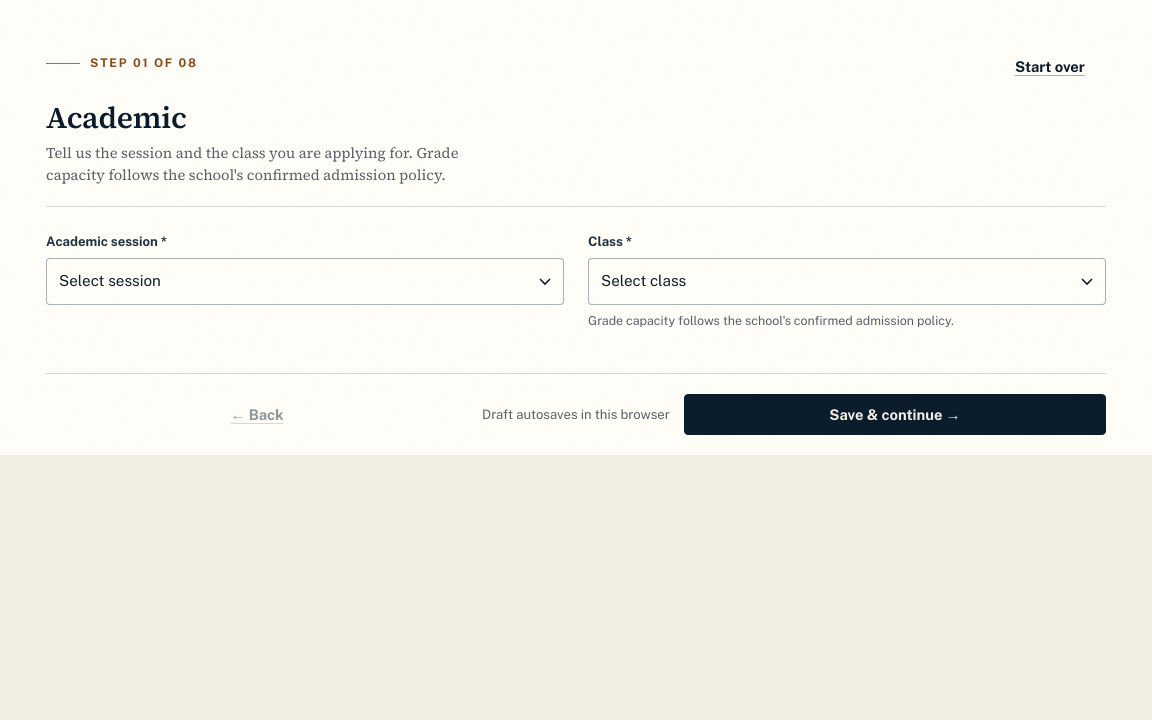
ApplicationForm › advances to step 2 after the required fields are filled
Select "Session 2026-27" in the dropdown labelled "Academic session *": (305, 282) [46,258,564,305]
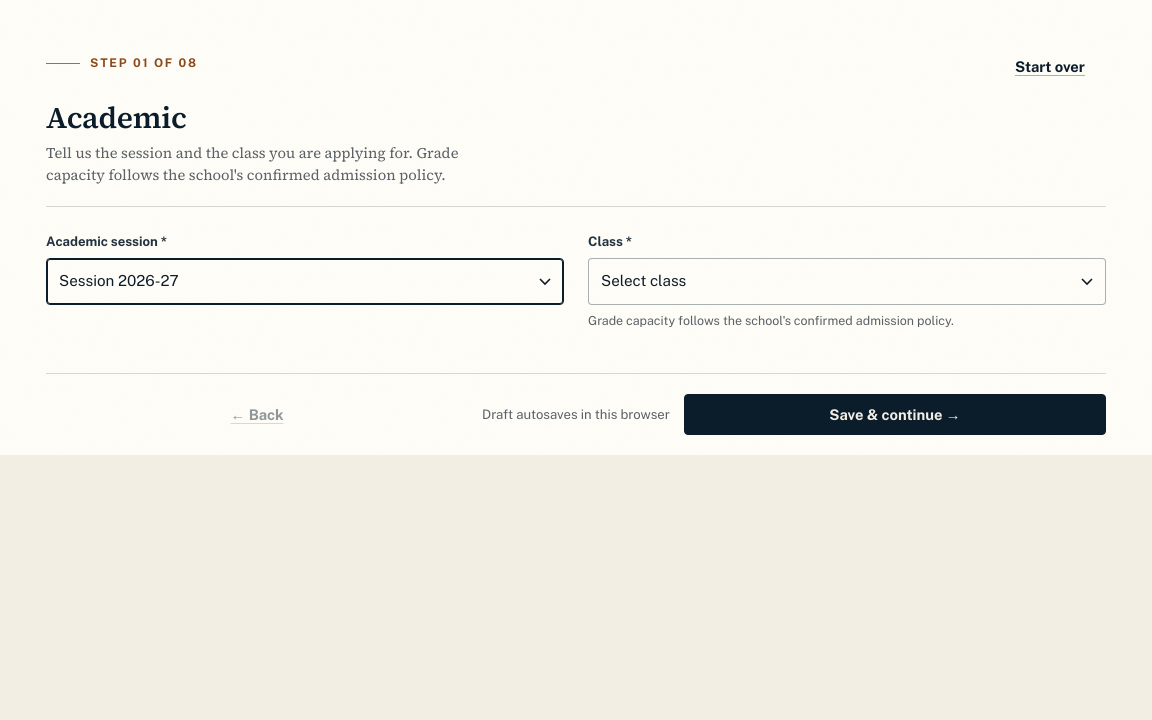
Select "Class 6" in the dropdown labelled "Class *": (847, 282) [588,258,1106,305]
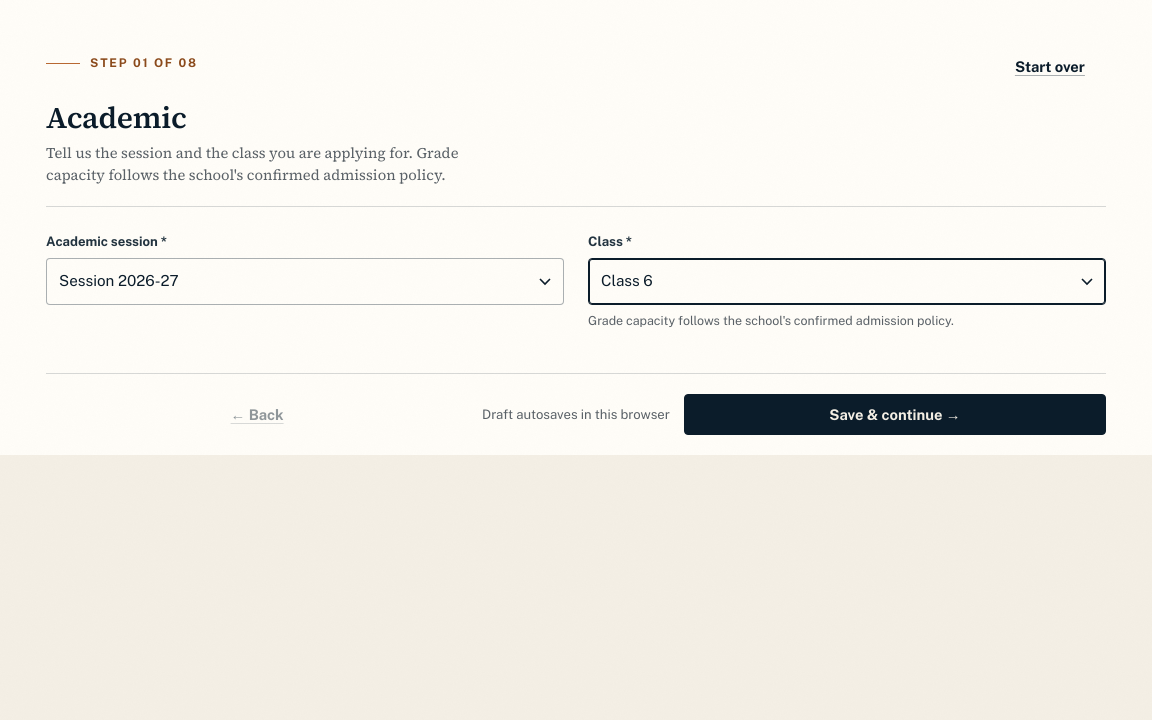
Click the button "Save & continue →": (895, 415) [684,394,1106,436]
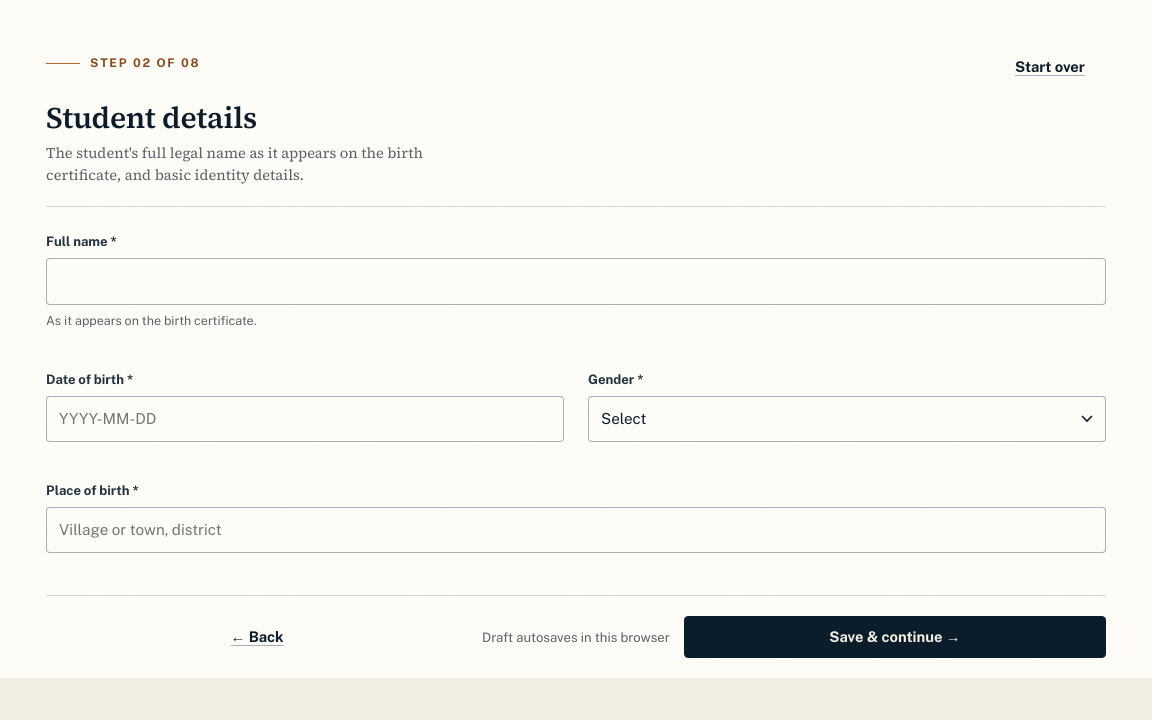
Expected: the heading "Student details" is shown, [46,97,257,138]
Expected: the field labelled "Full name *" is shown, [46,258,1106,305]
